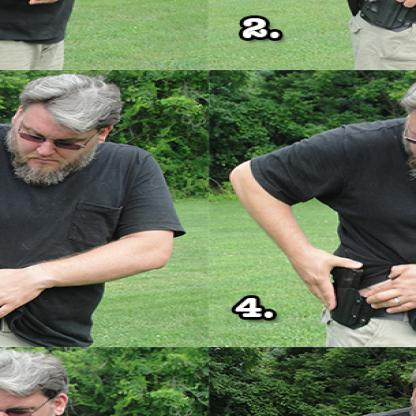gun: (310, 252, 398, 343), (331, 0, 389, 24)
